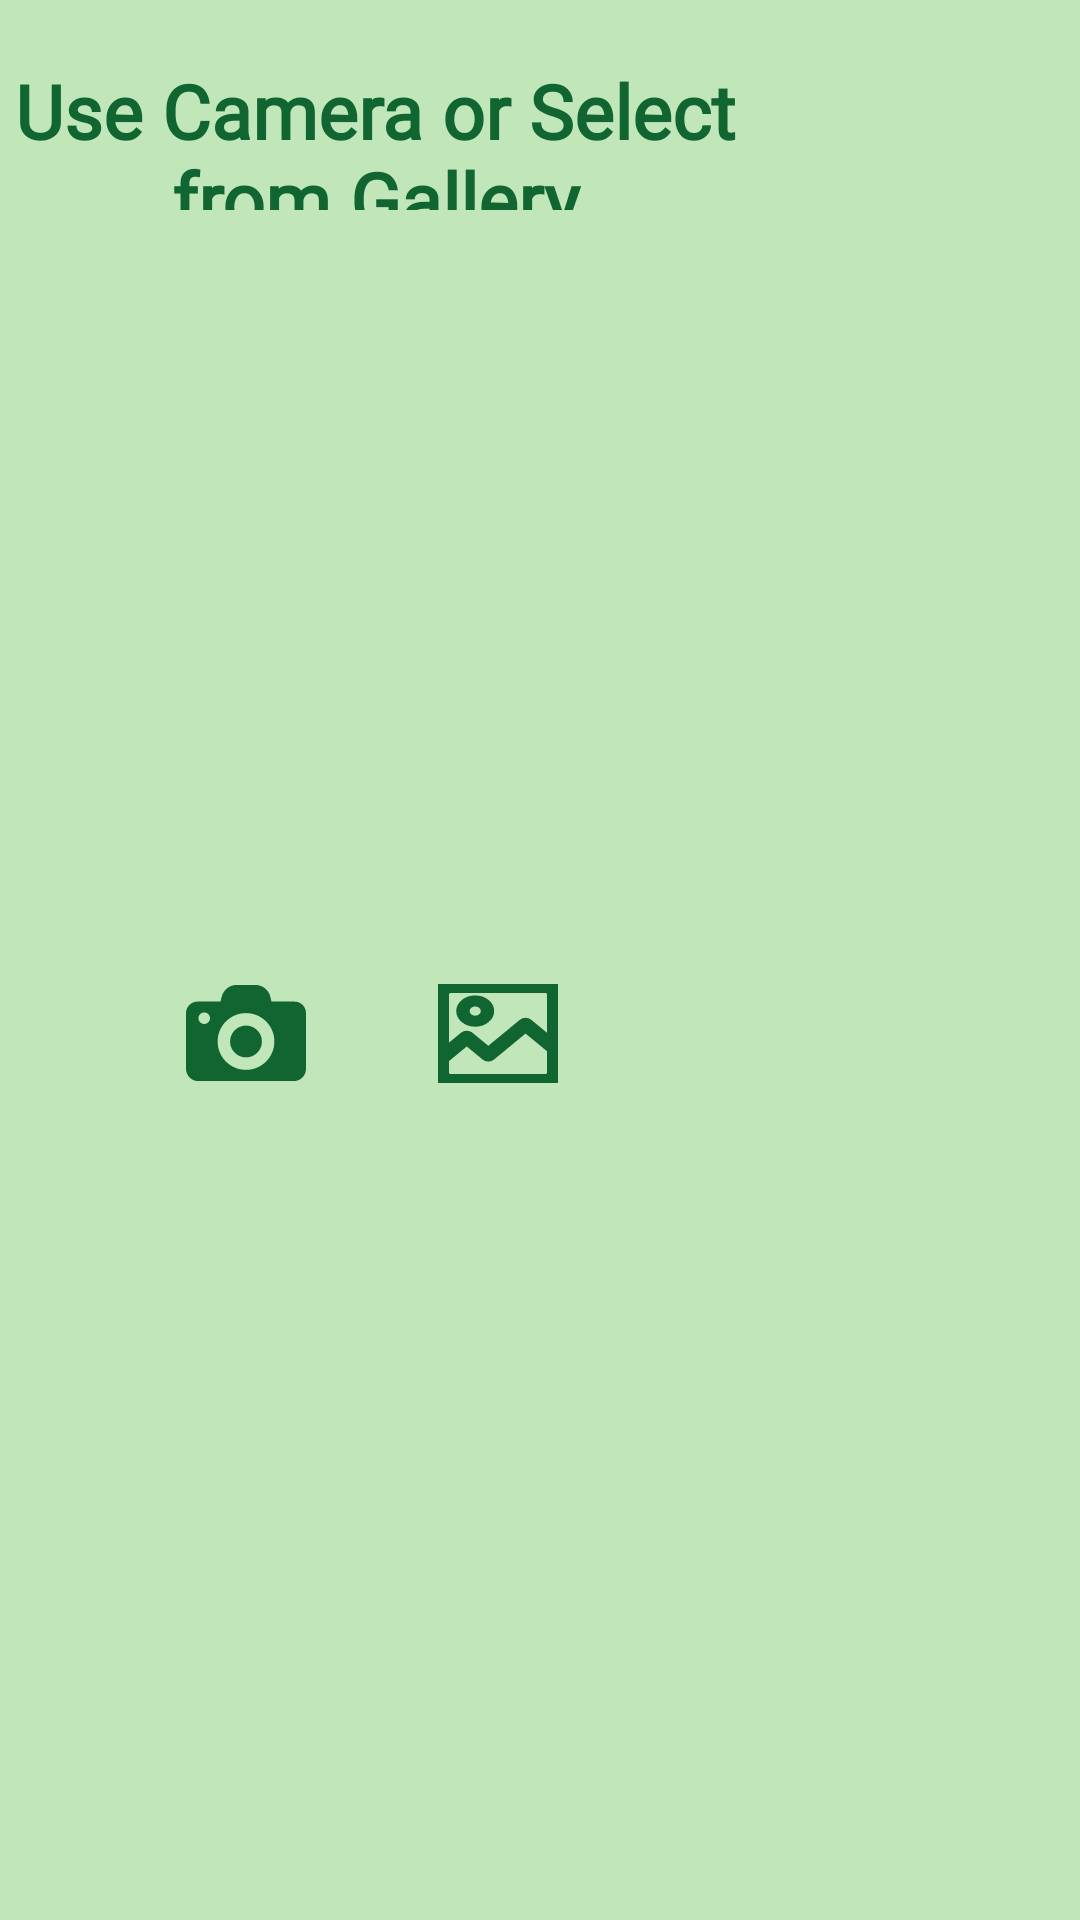

Icon bounding boxes for this 1080×1920 phone screenshot, format (x1, y1, x2, y2):
gallery: (438, 984, 558, 1083)
photo camera: (186, 985, 306, 1081)
